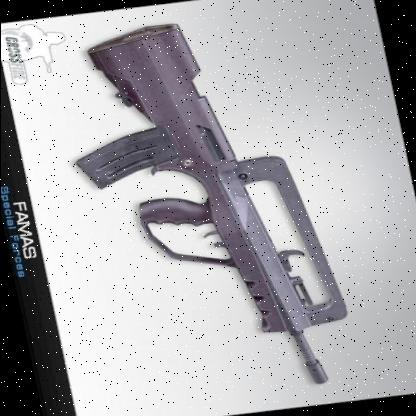rifle: (63, 9, 357, 404)
